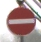No entry: (5, 5, 36, 36)
